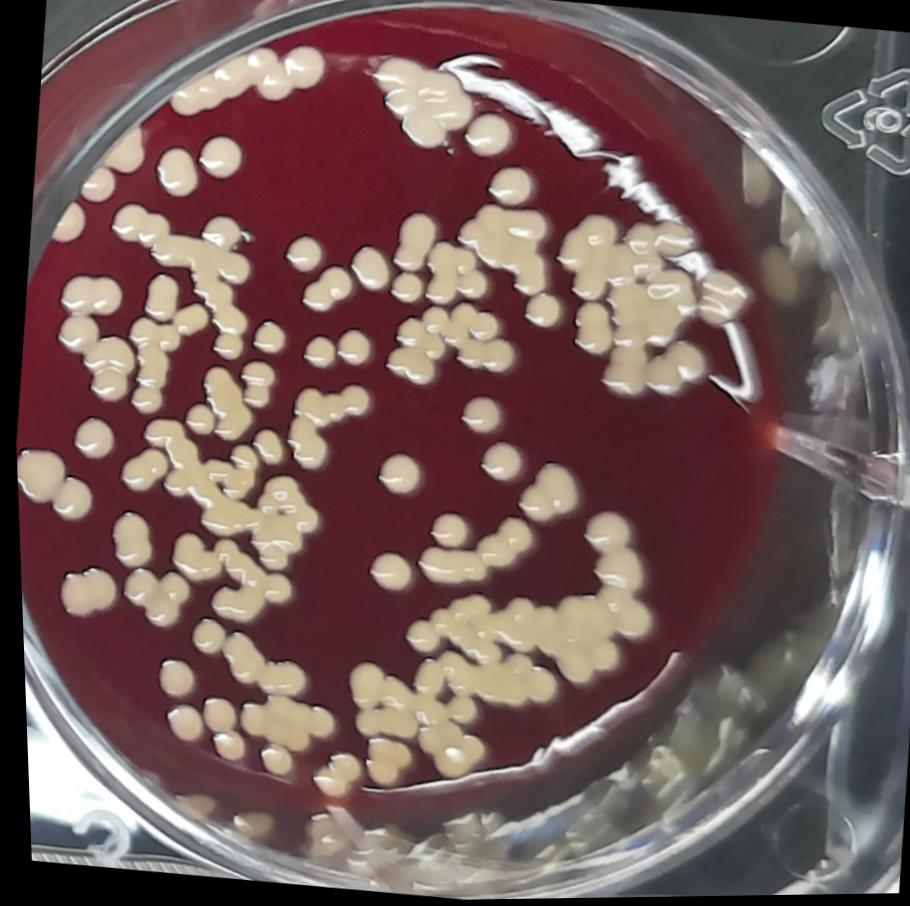staphylo-: (161, 20, 333, 137), (333, 657, 483, 784), (491, 578, 649, 697), (359, 49, 480, 165), (449, 199, 559, 301), (279, 376, 375, 479), (195, 536, 296, 633), (236, 470, 323, 577), (402, 583, 502, 667), (229, 687, 333, 755), (116, 313, 180, 422), (462, 644, 558, 713), (211, 629, 307, 698), (13, 445, 94, 526), (379, 302, 450, 393), (504, 457, 585, 533), (415, 236, 490, 313), (112, 560, 190, 633), (191, 361, 256, 447), (638, 335, 709, 405), (73, 332, 137, 409), (686, 265, 752, 339), (45, 560, 113, 628), (383, 206, 440, 279), (411, 542, 486, 594), (53, 268, 125, 321), (472, 512, 531, 574), (101, 503, 154, 572), (352, 735, 412, 793), (293, 261, 353, 318), (363, 444, 422, 500), (447, 387, 504, 443), (565, 298, 614, 361), (460, 107, 515, 163), (299, 748, 353, 804), (584, 546, 646, 594), (478, 163, 536, 214), (451, 336, 516, 381), (195, 130, 249, 184), (150, 142, 199, 200), (358, 548, 413, 598), (65, 411, 115, 464), (578, 506, 631, 556), (469, 441, 519, 492), (343, 243, 390, 297), (144, 653, 194, 703), (47, 308, 100, 354), (155, 699, 202, 748), (277, 227, 324, 275), (421, 508, 470, 553), (138, 268, 178, 323), (512, 290, 562, 333), (328, 325, 369, 371), (193, 692, 235, 734), (249, 740, 291, 781), (295, 332, 335, 373), (181, 615, 220, 656), (247, 426, 283, 468), (383, 268, 421, 307), (203, 729, 239, 766)
